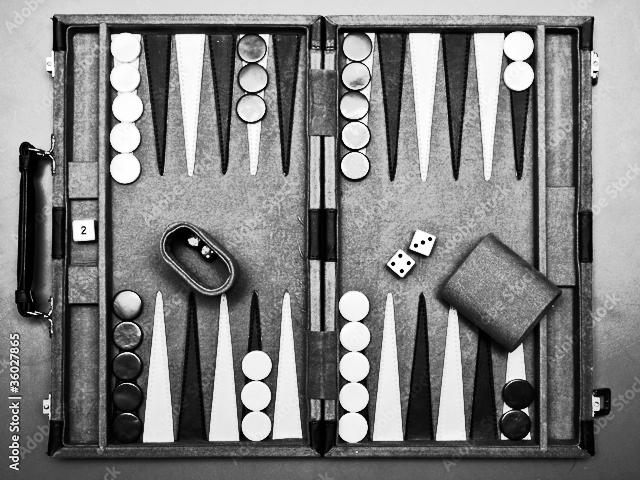bar: (307, 34, 339, 443)
board: (106, 27, 542, 450)
dark_p: (110, 287, 145, 321), (501, 377, 536, 410), (340, 59, 376, 91), (499, 409, 533, 442), (111, 350, 145, 382), (113, 380, 145, 414), (339, 151, 373, 183), (111, 413, 144, 445), (235, 33, 269, 64), (339, 119, 372, 150), (111, 322, 145, 352), (341, 30, 376, 59), (235, 92, 267, 123), (237, 63, 270, 93), (340, 91, 372, 121)
dice: (384, 249, 417, 279), (408, 229, 437, 257), (71, 218, 98, 243), (183, 228, 206, 251), (196, 242, 218, 263)
light_p: (109, 31, 143, 65), (503, 60, 536, 93), (111, 91, 145, 123), (109, 121, 141, 155), (240, 350, 274, 382), (501, 29, 535, 61), (339, 322, 373, 354), (109, 60, 141, 93), (109, 153, 142, 185), (240, 381, 273, 413), (338, 351, 371, 383), (241, 411, 273, 443), (337, 412, 369, 444), (337, 291, 369, 321), (338, 383, 369, 413)
